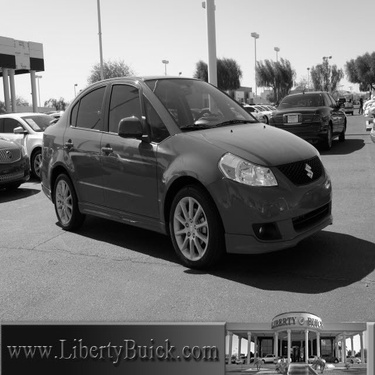car: (36, 68, 335, 268), (276, 91, 347, 144), (5, 110, 56, 179), (1, 134, 30, 196), (252, 101, 272, 124), (339, 90, 355, 115), (247, 105, 267, 125)
